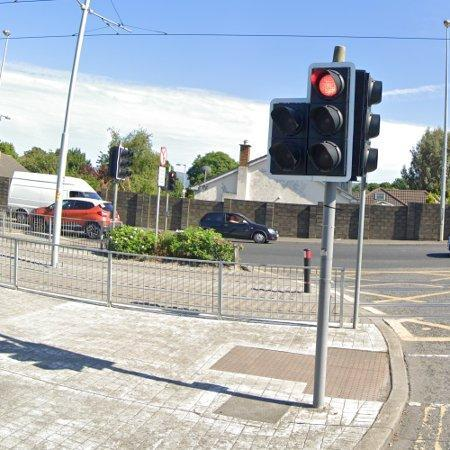traffic lights: (306, 63, 354, 180), (265, 98, 309, 180), (353, 67, 382, 180)
